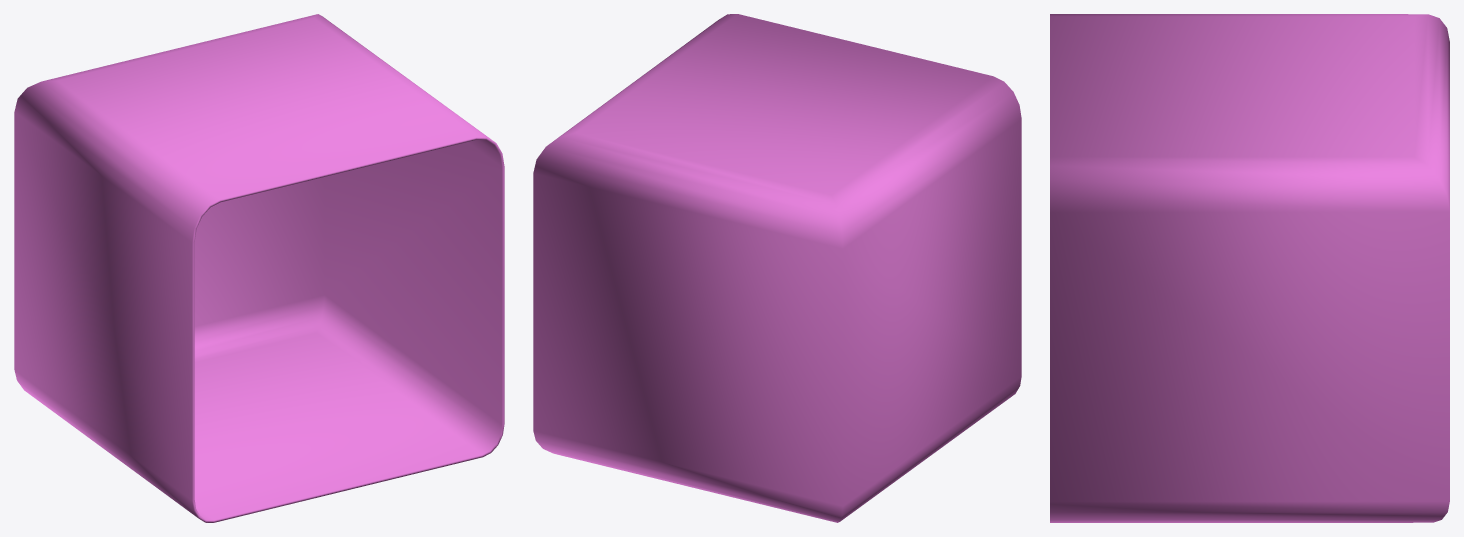
The model's file is Fondo para personajes.fbx.
The picture shows the model from 3 angles, left to right: view 1: azimuth 30°, elevation 25°; view 2: azimuth 150°, elevation 25°; view 3: azimuth 270°, elevation 25°; orthographic projection. The views are drawn at different scales.
Visible parts, largest first — view 1: Plane; view 2: Plane; view 3: Plane.
Part boxes in pixels (box(x1,y1,x2,y2)): Plane: box(14, 14, 504, 522); Plane: box(533, 14, 1021, 522); Plane: box(1050, 14, 1449, 522).
Bounding box in the file's own units: 353 × 347 × 349.
